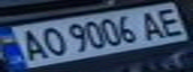0: (100, 16, 124, 47), (84, 17, 106, 50)
6: (115, 11, 145, 44)
9: (63, 20, 87, 53)
A: (9, 27, 51, 62), (136, 8, 172, 41)
E: (151, 6, 190, 38)
O: (33, 25, 69, 57)
